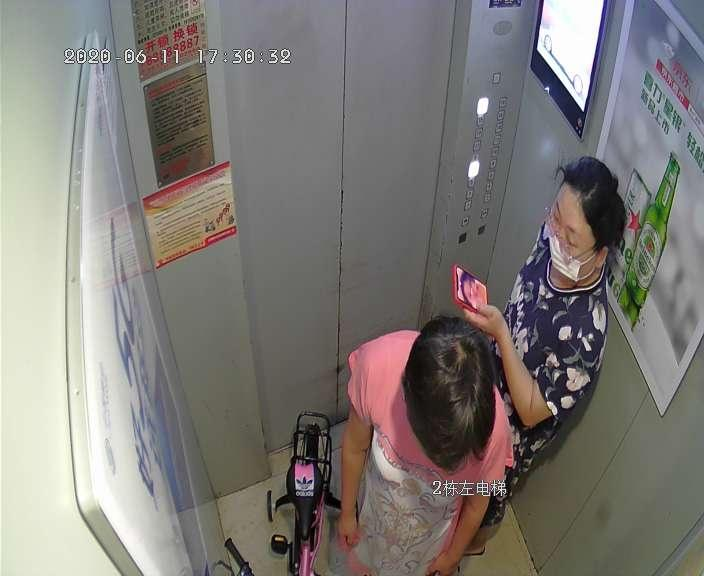person: (341, 279, 558, 576), (466, 157, 625, 528)
